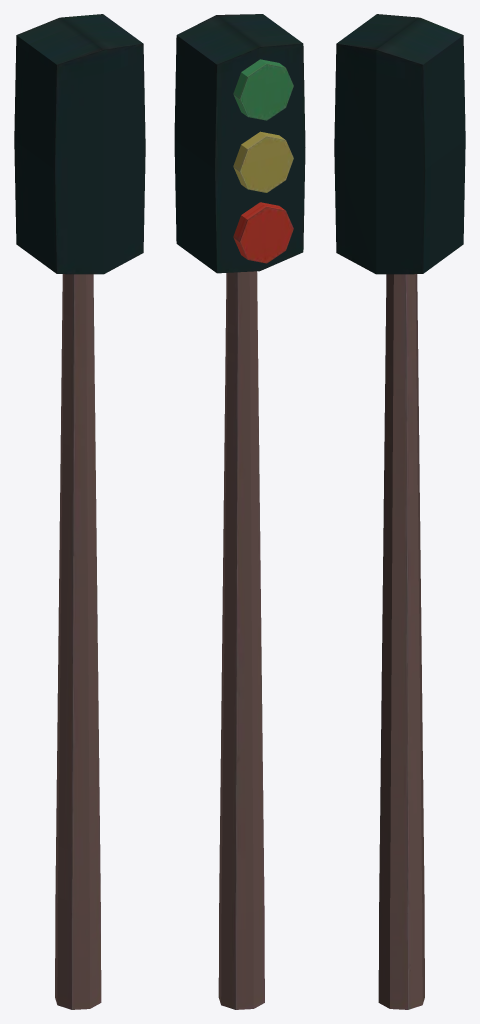
File: webp.glb
3 views of the same model, side by side, from view 1: azimuth 30°, elevation 25°; view 2: azimuth 210°, elevation 25°; view 3: azimuth 330°, elevation 25° (orthographic).
Visible parts, largest first — view 1: Node; view 2: Node; view 3: Node.
Boxes of the visible parts, <box> form: Node: <box>14,14,145,1009</box>; Node: <box>174,14,305,1009</box>; Node: <box>334,14,465,1009</box>.
Bounding box in the file's own units: 44.11 × 450 × 42.8.
1 material, 1 textured.
